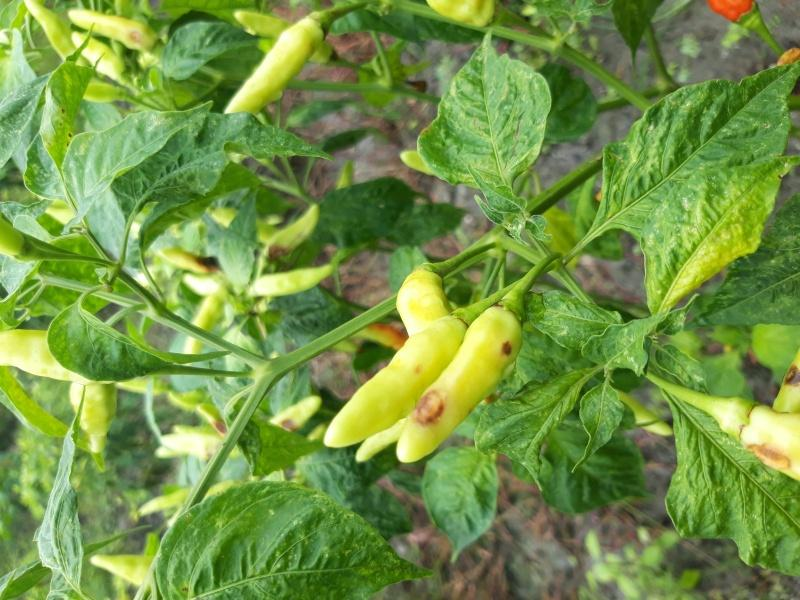antraknosa: (396, 302, 520, 463)
cabai_normal: (224, 15, 326, 122), (1, 327, 123, 383), (24, 1, 87, 67), (68, 7, 157, 52), (252, 264, 335, 297), (71, 29, 124, 78)
